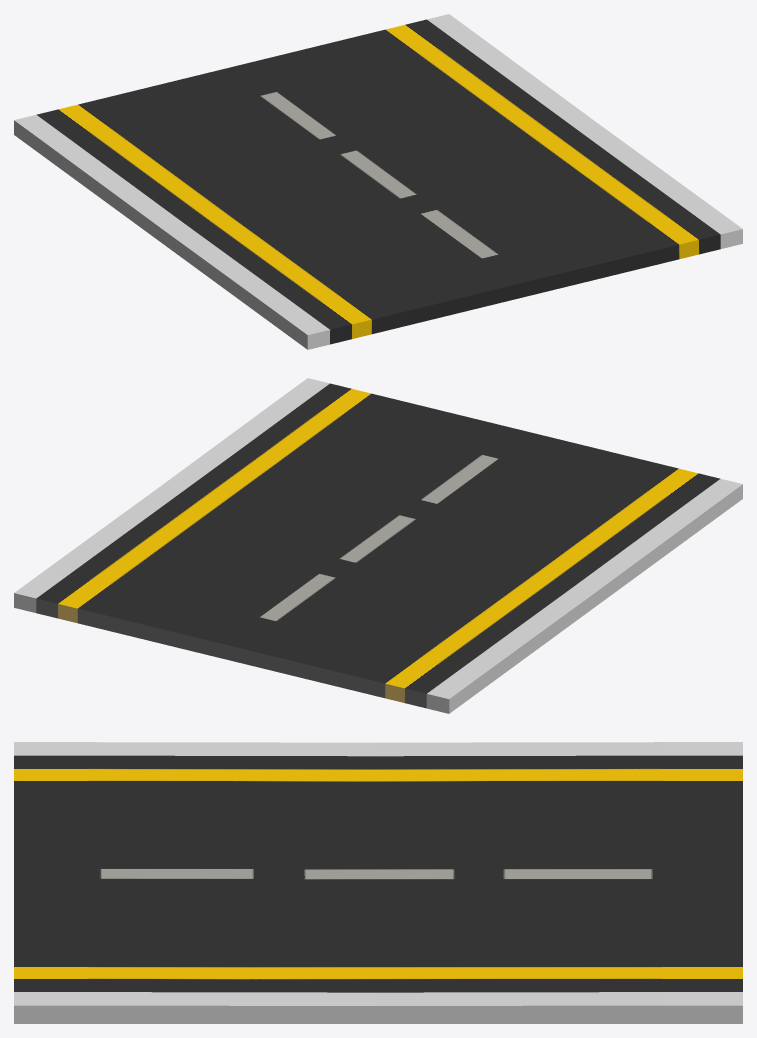
File: pista00.fbx
3 views of the same model, one above another, from view 1: azimuth 30°, elevation 25°; view 2: azimuth 150°, elevation 25°; view 3: azimuth 270°, elevation 25° (orthographic). The views are drawn at different scales.
Parts seen in each view (by area): view 1: pista00; view 2: pista00; view 3: pista00.
Part boxes in pixels (left/top/right/bottom): pista00: left=14, top=14, right=742, bottom=349; pista00: left=14, top=378, right=742, bottom=713; pista00: left=14, top=742, right=742, bottom=1023.
Size of the model in its own units: 2539 by 82.06 by 2969.
1 material, 1 textured.
